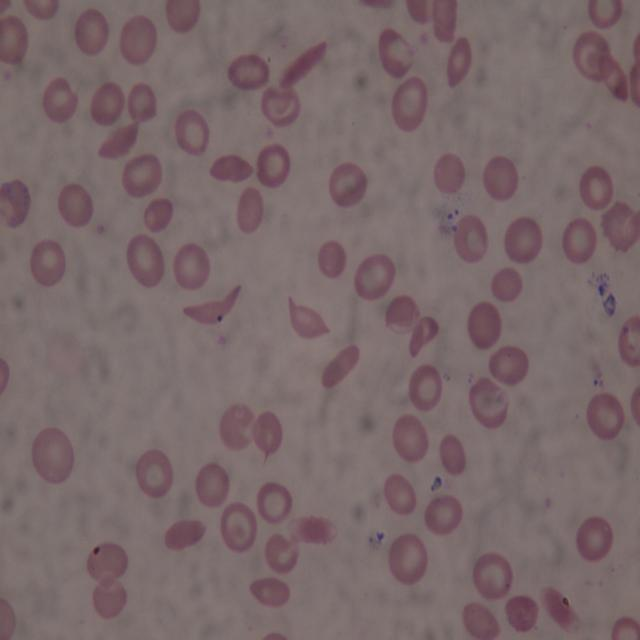Crystal: (538, 586, 584, 635), (318, 342, 362, 390), (285, 518, 340, 545), (248, 576, 291, 610), (163, 518, 208, 550), (598, 54, 628, 101)
Normal: (30, 425, 76, 486), (390, 531, 428, 586), (172, 241, 211, 292), (135, 448, 174, 499), (28, 240, 67, 288), (504, 216, 542, 264), (574, 517, 614, 562), (561, 219, 597, 264), (409, 362, 442, 411), (174, 108, 209, 154), (578, 165, 613, 210), (75, 8, 106, 55), (256, 144, 290, 186), (259, 480, 293, 522), (585, 0, 622, 24), (610, 614, 640, 640)
Others: (392, 77, 428, 133), (127, 232, 163, 286), (354, 254, 395, 301), (472, 551, 513, 598), (122, 152, 163, 198), (392, 412, 428, 463), (326, 162, 365, 209), (466, 299, 503, 348), (600, 200, 633, 254), (218, 404, 255, 452), (487, 344, 529, 386), (86, 540, 129, 581), (121, 16, 156, 66), (454, 214, 489, 264), (586, 395, 624, 441), (89, 78, 126, 124), (42, 75, 77, 123), (483, 156, 518, 202), (260, 86, 300, 125), (57, 184, 92, 228), (196, 462, 231, 506), (406, 316, 441, 360), (424, 494, 462, 534), (462, 600, 503, 636), (432, 152, 466, 195), (228, 55, 268, 91), (264, 534, 300, 574), (504, 593, 540, 633), (2, 177, 30, 227), (92, 580, 127, 620), (1, 15, 28, 66), (382, 473, 415, 514), (252, 412, 283, 454), (318, 238, 346, 282), (384, 295, 419, 330), (236, 187, 262, 234), (126, 82, 156, 121), (166, 1, 200, 34), (430, 0, 457, 41), (492, 266, 523, 301), (620, 313, 640, 367), (438, 436, 466, 474), (143, 196, 173, 231), (620, 208, 640, 245), (22, 0, 58, 19), (406, 0, 430, 28), (2, 596, 17, 638), (625, 63, 639, 107), (0, 356, 12, 395), (482, 391, 506, 409), (630, 387, 640, 428), (98, 571, 118, 588), (630, 32, 639, 67), (262, 630, 289, 640)
Sickle: (181, 280, 243, 327), (277, 39, 329, 94), (284, 291, 334, 341), (468, 375, 511, 429), (377, 26, 415, 81), (95, 118, 142, 161), (447, 34, 472, 92), (208, 154, 255, 184), (257, 420, 274, 462)
Target: (573, 28, 613, 85), (220, 501, 257, 550)
